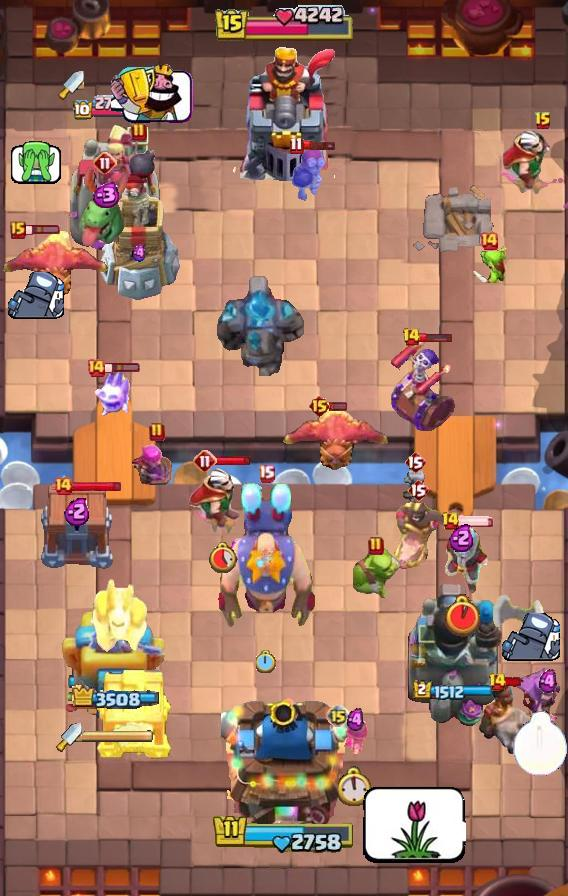bar: (60, 607, 168, 731), (67, 122, 161, 256)
bomb: (94, 666, 174, 760), (38, 484, 116, 570)
cannoneer-tower: (217, 273, 307, 377)
clock: (212, 813, 356, 855), (213, 5, 355, 45)
electro-spirit: (89, 182, 121, 208), (65, 496, 91, 526), (449, 523, 475, 552), (539, 670, 557, 695), (348, 708, 365, 732), (131, 244, 149, 262)
electro-wizard: (77, 165, 133, 249)
elite-barbarian: (478, 679, 538, 755)
elixir: (512, 711, 568, 777), (444, 595, 479, 637), (339, 766, 374, 806), (207, 541, 237, 573), (256, 650, 276, 673)
elixir-golem-small: (90, 579, 150, 657)
emote: (70, 480, 122, 493), (457, 515, 495, 527), (24, 224, 61, 236), (104, 362, 141, 374), (301, 139, 337, 151), (419, 331, 454, 343), (216, 455, 253, 466), (328, 400, 347, 412), (505, 676, 524, 688)
evolution-symbol: (131, 438, 183, 494)
flying-machine: (345, 546, 407, 602)
freeze: (390, 500, 446, 570)
goblin: (342, 721, 371, 757)
heal-spirit: (401, 470, 429, 504)
ice-golem: (291, 148, 327, 202)
king-tower: (221, 690, 347, 826), (230, 45, 338, 181)
king-tower-bar: (82, 730, 154, 744)
little-prince: (214, 482, 318, 630)
mirror: (91, 368, 131, 418)
mortar: (431, 524, 493, 596)
mother-witch: (0, 231, 116, 303), (275, 403, 391, 475)
rascal-girl: (512, 667, 567, 729)
royal-giant: (492, 595, 544, 655)
selected: (72, 95, 156, 122), (69, 686, 158, 711), (414, 679, 495, 700)
skeleton: (362, 784, 466, 864), (111, 62, 195, 126), (502, 613, 560, 663), (8, 271, 64, 321), (8, 141, 63, 185)
skeleton-king: (494, 128, 568, 198), (185, 466, 259, 534)
skeleton-king-bar: (390, 335, 460, 435)
text: (93, 151, 117, 175), (193, 449, 217, 473), (326, 704, 350, 728), (308, 394, 331, 418), (404, 450, 426, 474), (407, 478, 429, 502), (479, 231, 499, 251), (402, 327, 422, 347), (86, 358, 106, 378), (53, 476, 73, 496), (440, 511, 459, 531), (489, 672, 508, 692), (534, 111, 552, 131), (257, 465, 275, 483), (131, 122, 147, 142), (149, 422, 165, 442), (368, 536, 384, 556), (10, 221, 26, 239), (289, 136, 304, 155)
tower-bar: (402, 579, 504, 731)
zap: (471, 245, 507, 283)
zappy: (97, 144, 184, 302)
